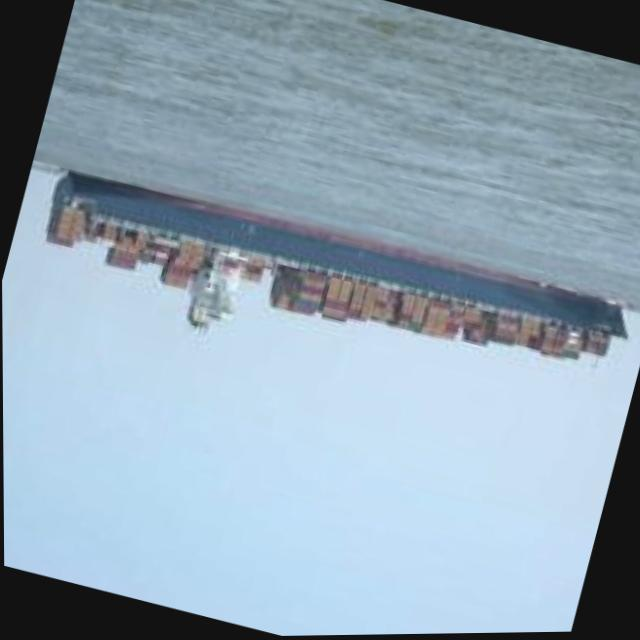ship2: (47, 172, 629, 360)
